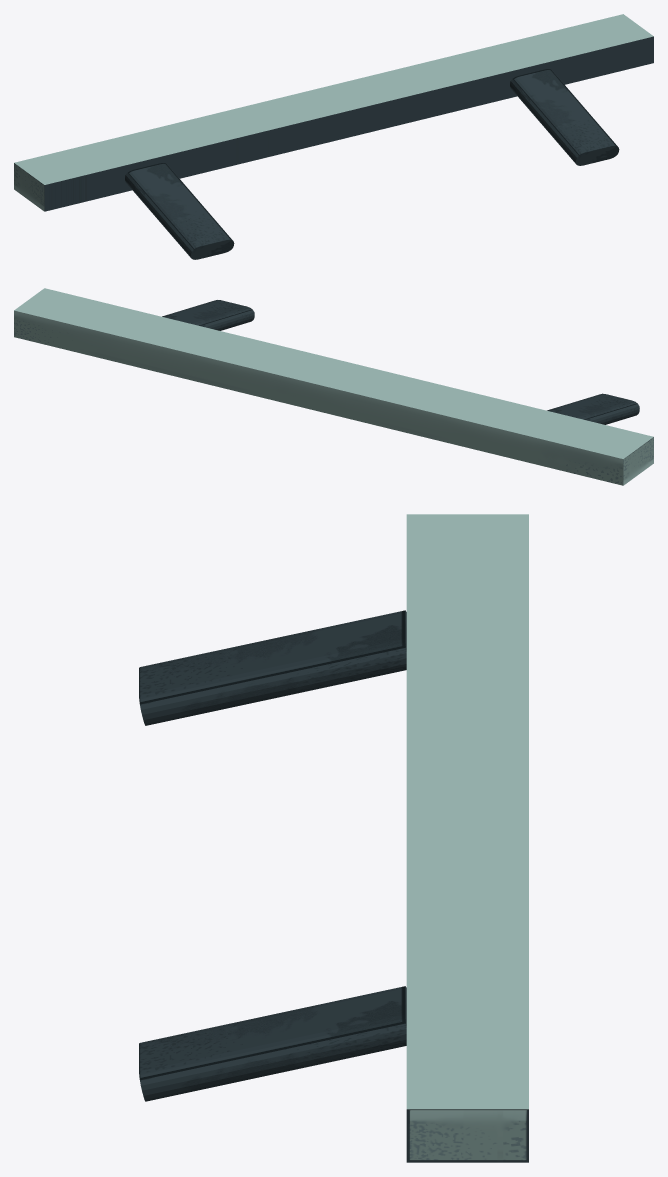
The model's file is BoardLampNew.fbx.
The picture shows the model from 3 angles, top to bottom: view 1: azimuth 30°, elevation 25°; view 2: azimuth 150°, elevation 25°; view 3: azimuth 270°, elevation 25°; orthographic projection. The views are drawn at different scales.
Visible parts, largest first — view 1: BoardLampMesh, BoardLampHolderMesh, BoardLampHolderMesh.002; view 2: BoardLampMesh, BoardLampHolderMesh, BoardLampHolderMesh.002; view 3: BoardLampMesh, BoardLampHolderMesh.002, BoardLampHolderMesh.
Boxes of the visible parts, <box> form: BoardLampMesh: <box>14,14,653,211</box>; BoardLampHolderMesh: <box>125,163,234,259</box>; BoardLampHolderMesh.002: <box>510,69,619,165</box>; BoardLampMesh: <box>14,288,653,485</box>; BoardLampHolderMesh: <box>547,393,639,424</box>; BoardLampHolderMesh.002: <box>162,300,254,330</box>; BoardLampMesh: <box>406,514,528,1162</box>; BoardLampHolderMesh.002: <box>139,986,406,1101</box>; BoardLampHolderMesh: <box>139,610,406,725</box>.
Size of the model in its own units: 151 by 11.47 by 41.95.
Materials: 2 (2 with a texture image).
